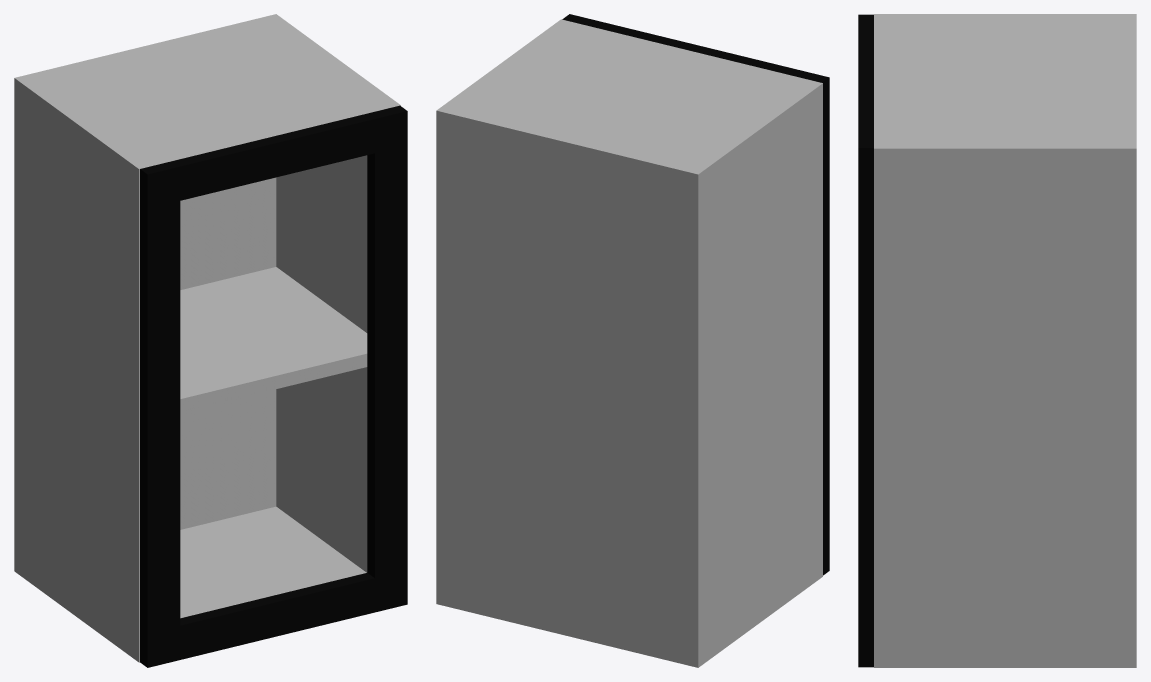
Rendered from mal40.glb.
3 views of the same model, side by side, from view 1: azimuth 30°, elevation 25°; view 2: azimuth 150°, elevation 25°; view 3: azimuth 270°, elevation 25° (orthographic). The views are drawn at different scales.
Parts seen in each view (by area): view 1: Box001, Box002; view 2: Box001, Box002; view 3: Box001, Box002.
Boxes of the visible parts, bbox=[...] form: Box001: bbox=[14, 14, 400, 662]; Box002: bbox=[140, 105, 407, 667]; Box001: bbox=[436, 19, 822, 667]; Box002: bbox=[562, 14, 829, 575]; Box001: bbox=[874, 14, 1136, 667]; Box002: bbox=[858, 14, 873, 667].
Size of the model in its own units: 0.4 by 0.72 by 0.35.
Materials: 2 (1 with a texture image).
